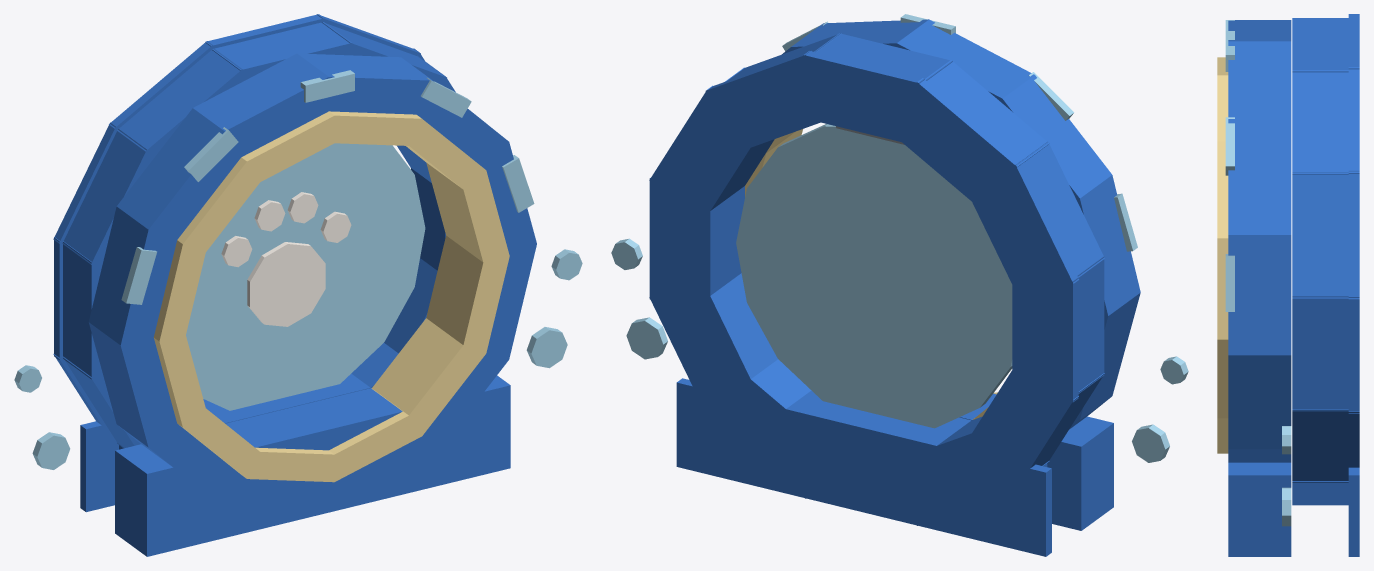
Rendered from CatCafe_CatFlap_Slide.glb.
3 renders of one model, left to right at view 1: azimuth 30°, elevation 25°; view 2: azimuth 150°, elevation 25°; view 3: azimuth 270°, elevation 25°, orthographic. The views are drawn at different scales.
Visible parts, largest first — view 1: CatCafe_CatFlap_Slide, CatCafe_CatFlap_Slide_Flap; view 2: CatCafe_CatFlap_Slide, CatCafe_CatFlap_Slide_Flap; view 3: CatCafe_CatFlap_Slide.
Boxes of the visible parts, x1,y1,x2,y2 form: CatCafe_CatFlap_Slide: [14, 14, 582, 556]; CatCafe_CatFlap_Slide_Flap: [186, 143, 425, 410]; CatCafe_CatFlap_Slide: [611, 14, 1188, 556]; CatCafe_CatFlap_Slide_Flap: [736, 124, 1012, 428]; CatCafe_CatFlap_Slide: [1217, 14, 1359, 556].
Size of the model in its own units: 3.41 by 2.53 by 0.76.
Materials: 1 (1 with a texture image).
